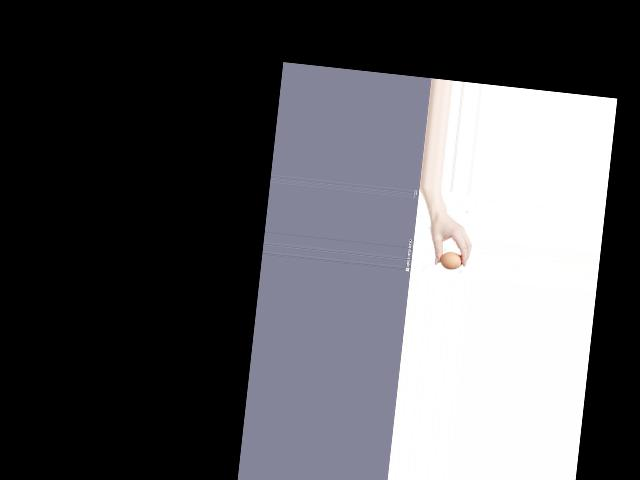egg: (438, 249, 462, 270)
